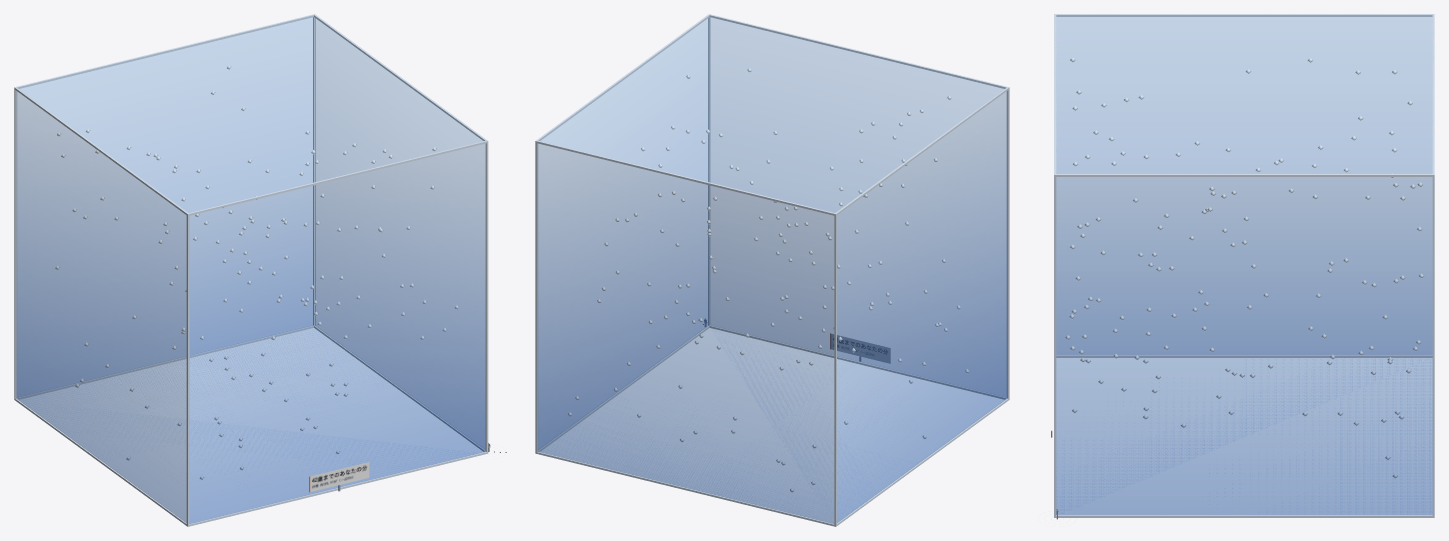
Rendered from cube_life_42.glb.
The picture shows the model from 3 angles, left to right: view 1: azimuth 30°, elevation 25°; view 2: azimuth 150°, elevation 25°; view 3: azimuth 270°, elevation 25°; orthographic projection. The views are drawn at different scales.
Visible parts, largest first — view 1: co2, edge, dots, label; view 2: co2, edge, dots, label; view 3: co2, edge, dots.
Part boxes in pixels (left/top/right/bottom): co2: left=16, top=15, right=485, bottom=523; edge: left=14, top=14, right=488, bottom=526; dots: left=55, top=65, right=458, bottom=479; label: left=309, top=462, right=369, bottom=492; co2: left=538, top=15, right=1007, bottom=523; edge: left=535, top=14, right=1009, bottom=526; dots: left=568, top=68, right=969, bottom=492; label: left=830, top=333, right=890, bottom=363; co2: left=1056, top=15, right=1432, bottom=514; edge: left=1054, top=14, right=1434, bottom=517; dots: left=1065, top=57, right=1424, bottom=478.
Size of the model in its own units: 63.13 by 59.38 by 62.23.
Materials: 8 (3 with a texture image).
